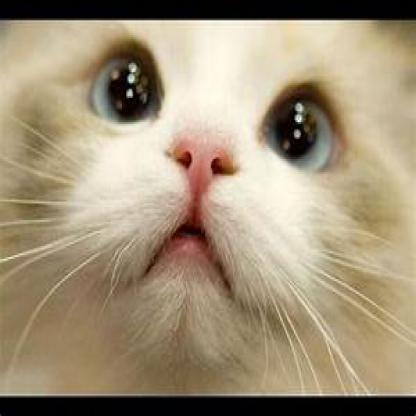cat: (26, 41, 373, 388)
